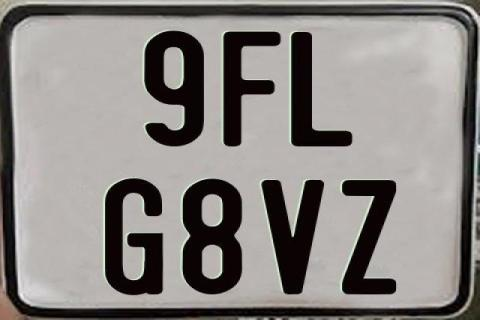0: (141, 30, 205, 150), (180, 178, 243, 294)
F: (222, 29, 286, 147)
G: (104, 178, 163, 298)
L: (288, 32, 355, 146)
V: (258, 180, 321, 299)
Z: (341, 179, 400, 295)
